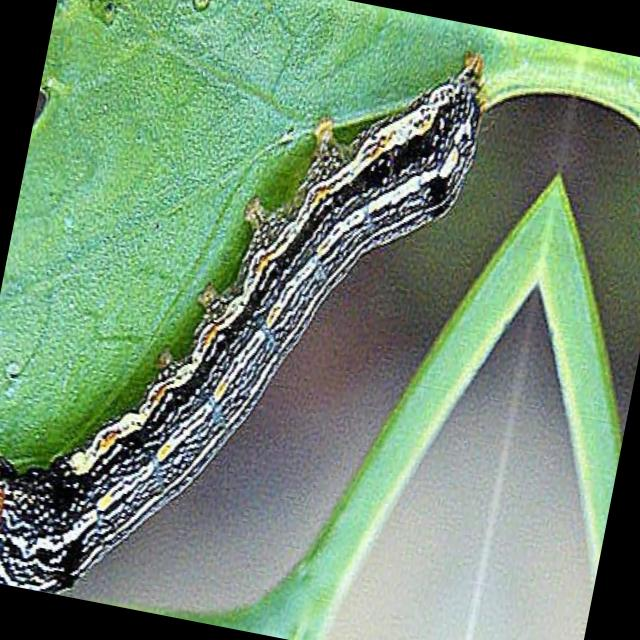Armyworm: (1, 1, 552, 640), (592, 60, 640, 341)
